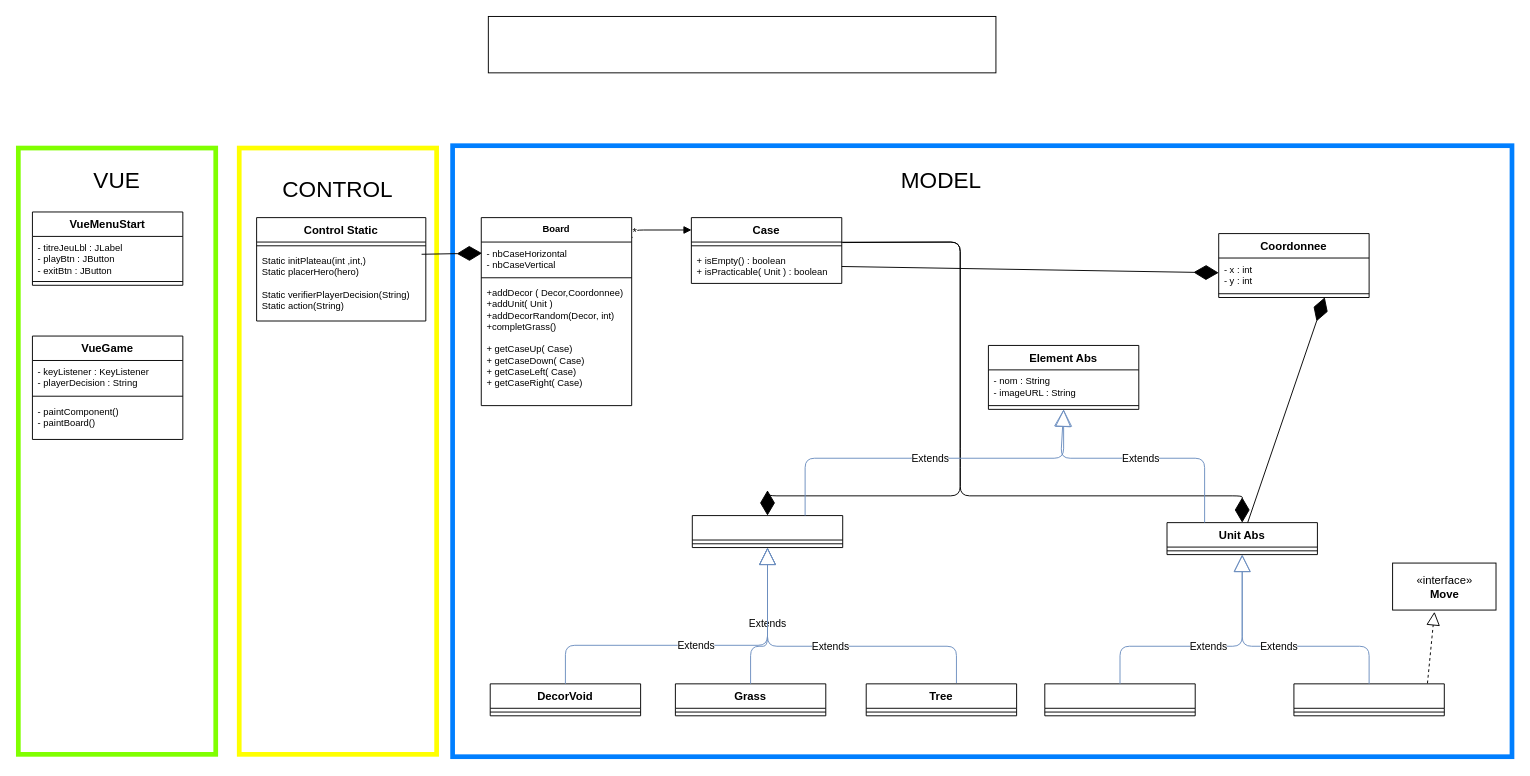
Image size: 1530x776. Some labels were removed from this diagram. The centre of each missing label's shape, as x and y in pixels:
"Decor Abs" belongs at (x=767, y=531).
"Diagramme Classe Game Version 1.2" belongs at (x=741, y=44).
"Hero" belongs at (x=1368, y=699).
"UnitVoid" belongs at (x=1119, y=699).
